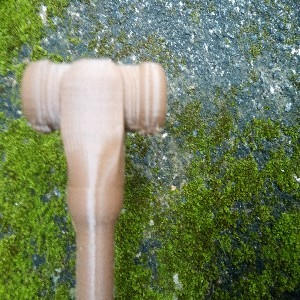palu: (20, 58, 169, 300)
